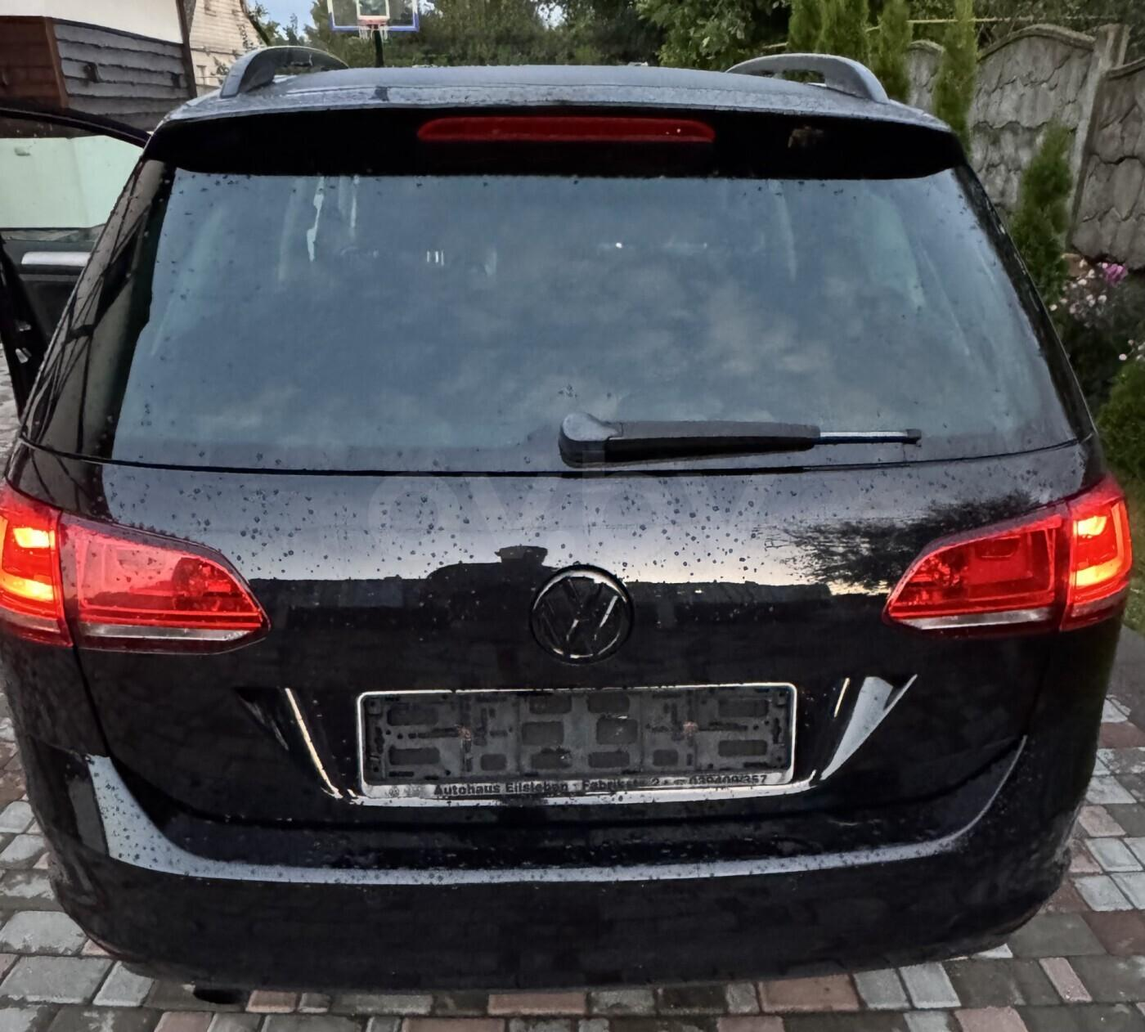Golf_2012-2017: (0, 64, 1145, 1026)
